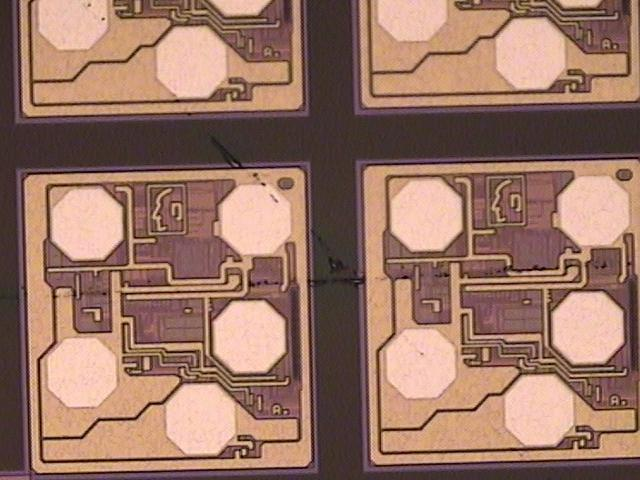SCRATCH: (1, 1, 640, 480)
